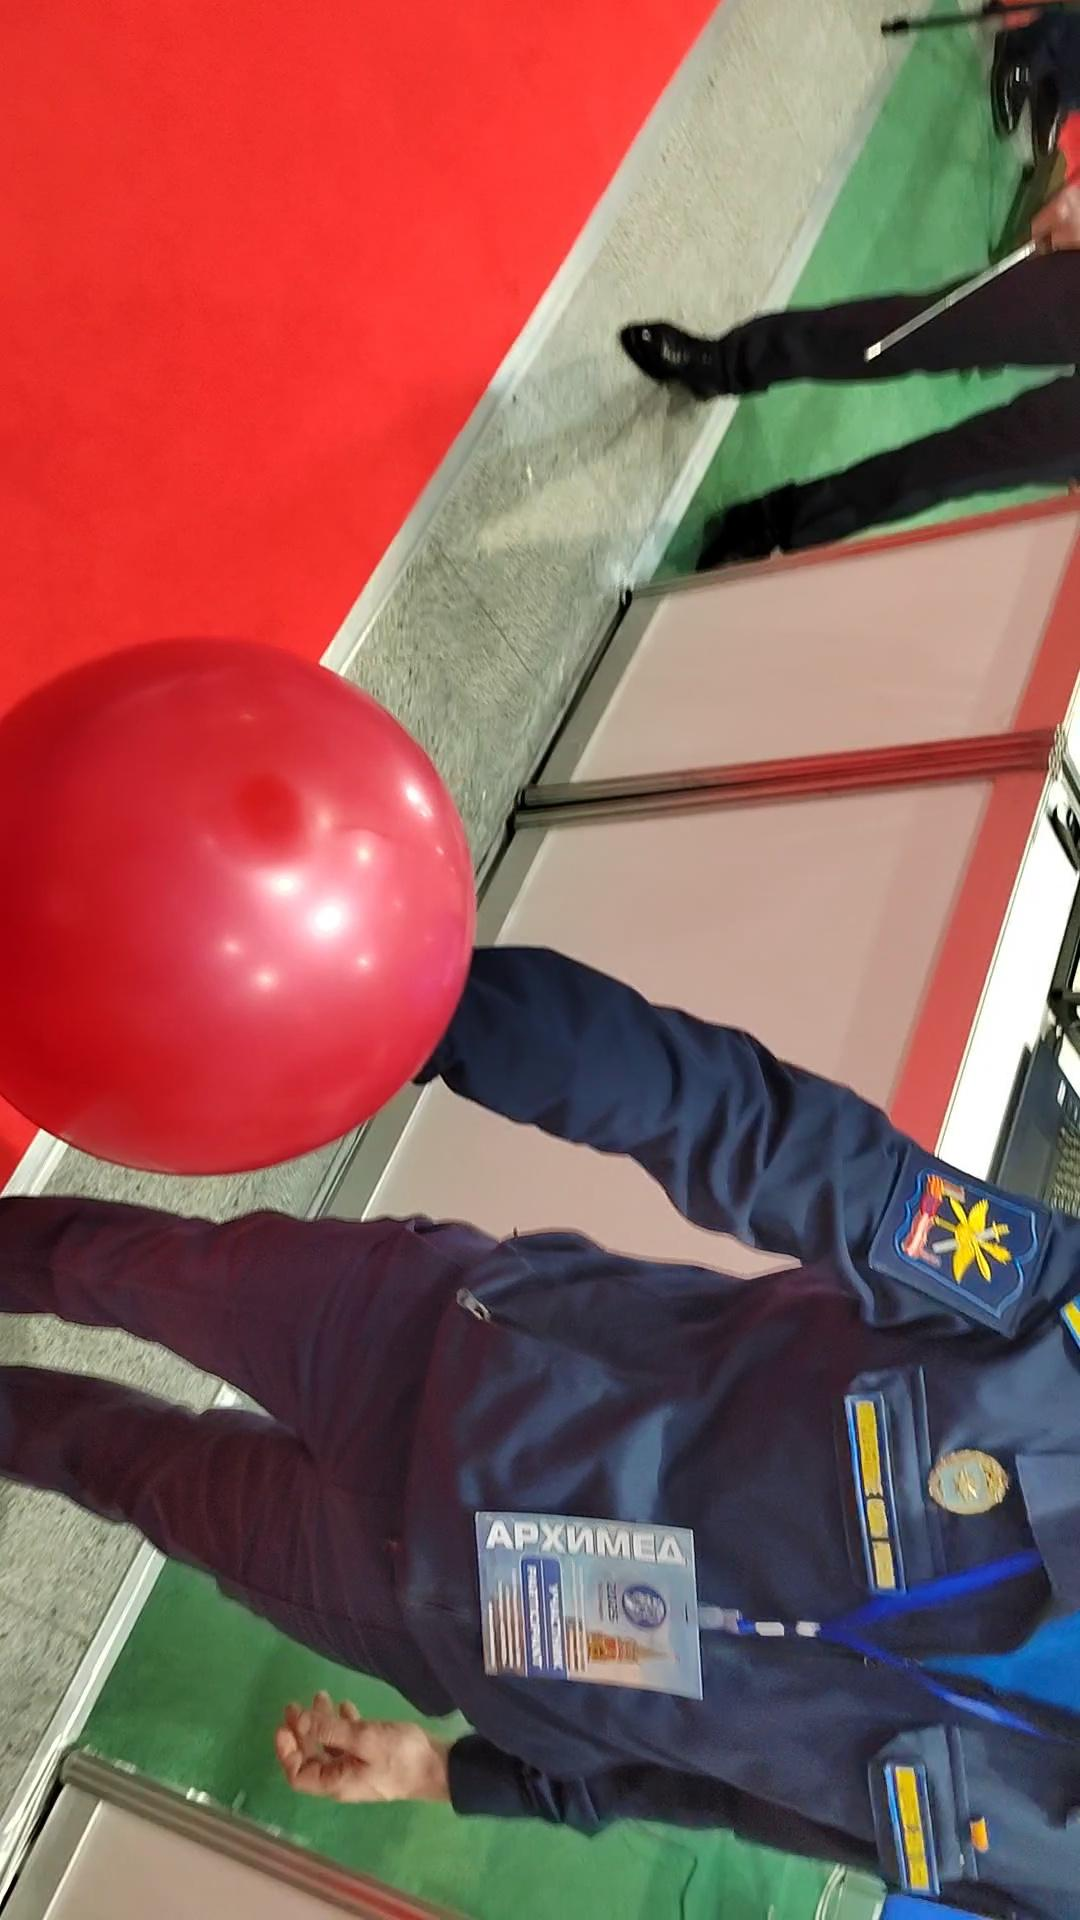red: (0, 633, 480, 1180)
